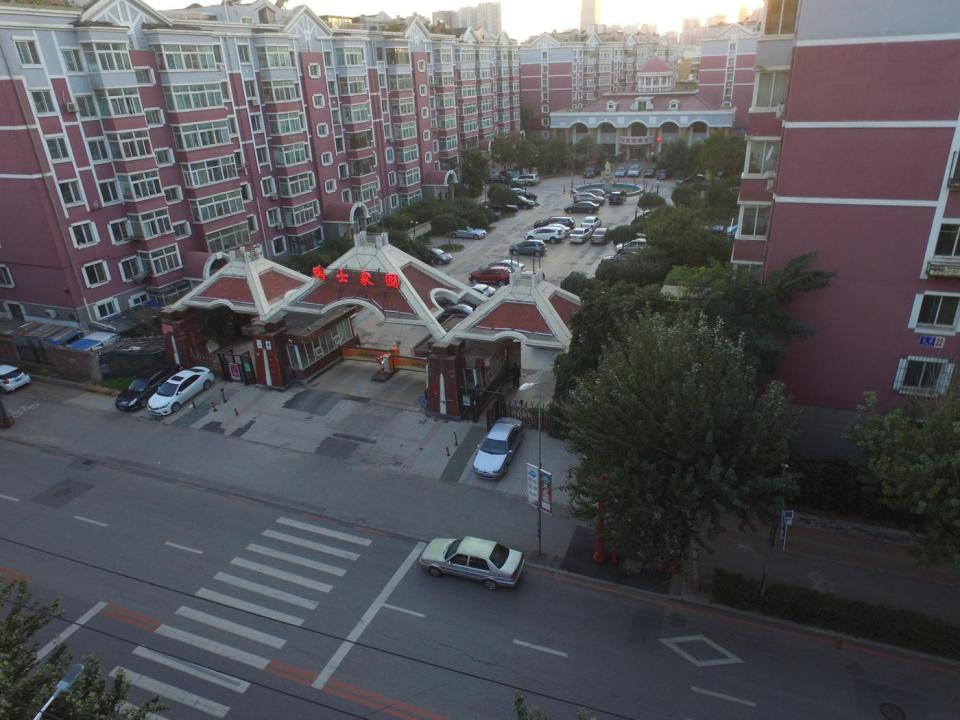car: (419, 533, 527, 594), (472, 410, 525, 480), (145, 364, 214, 416), (114, 361, 184, 412), (432, 304, 489, 327), (433, 290, 487, 312), (466, 264, 516, 287), (601, 250, 650, 271), (614, 238, 663, 258), (455, 280, 503, 300), (478, 258, 525, 276), (446, 219, 488, 238), (417, 243, 452, 265), (508, 238, 548, 256), (524, 226, 565, 243), (642, 208, 684, 224), (514, 268, 545, 289), (563, 200, 600, 215), (469, 204, 503, 220), (532, 217, 576, 229), (496, 195, 535, 208), (689, 178, 718, 195), (569, 224, 592, 245), (535, 224, 572, 237), (484, 199, 518, 212), (572, 192, 605, 205), (510, 173, 540, 186), (674, 174, 704, 187), (591, 226, 611, 245), (575, 189, 607, 200), (504, 190, 538, 200), (607, 188, 627, 205), (479, 173, 509, 184), (499, 187, 528, 198), (580, 215, 602, 229), (582, 163, 601, 179), (658, 168, 674, 180), (627, 164, 640, 177), (643, 166, 656, 179), (614, 166, 627, 178)
